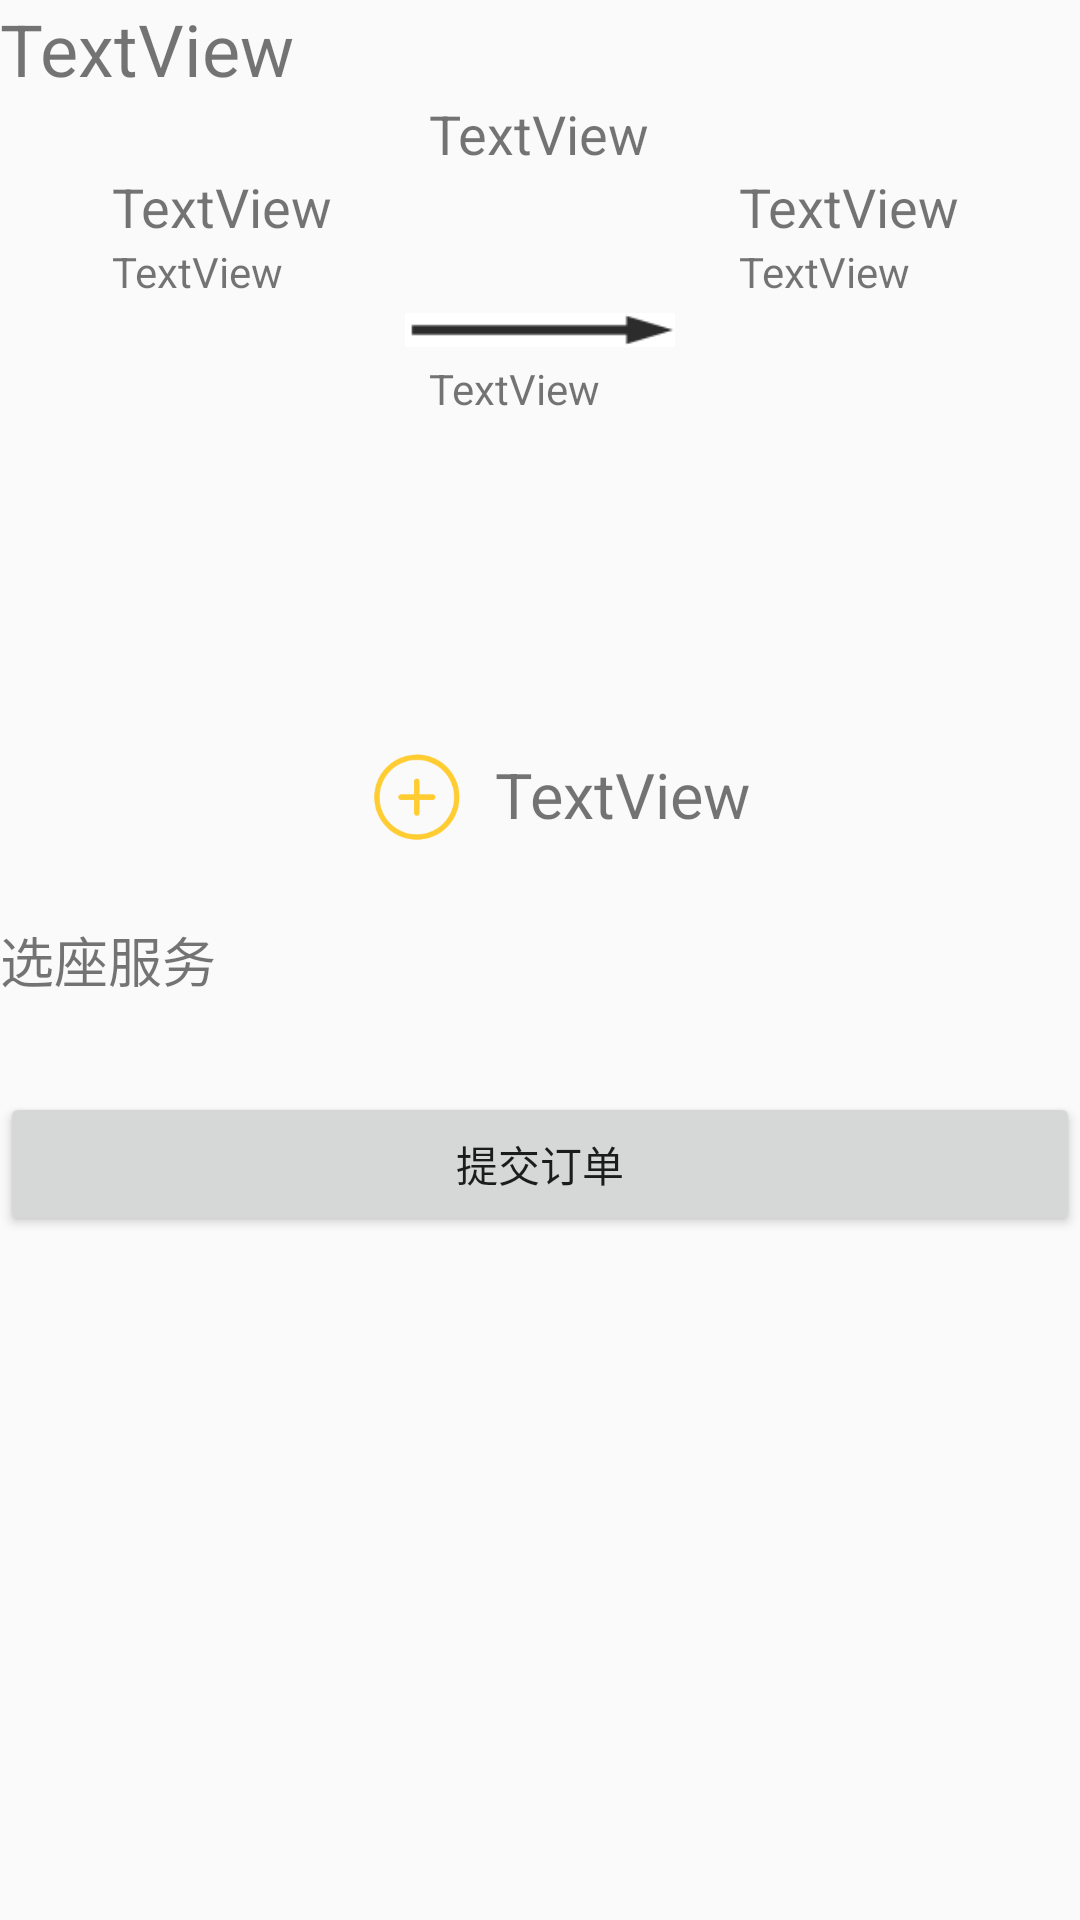

Icons on this 1080×1920 Android screen, each with the point to tap as (x=x, y=y):
add people: (x=417, y=797)
